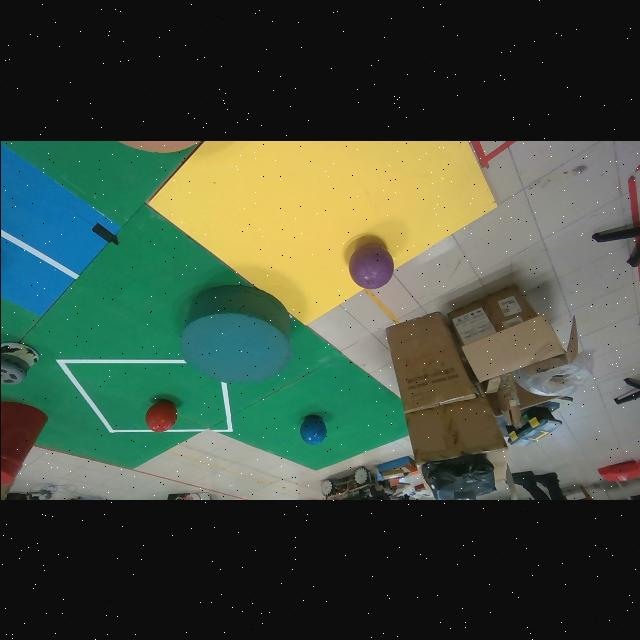B: (299, 416, 326, 445)
P: (348, 244, 392, 289)
R: (145, 399, 176, 432)
